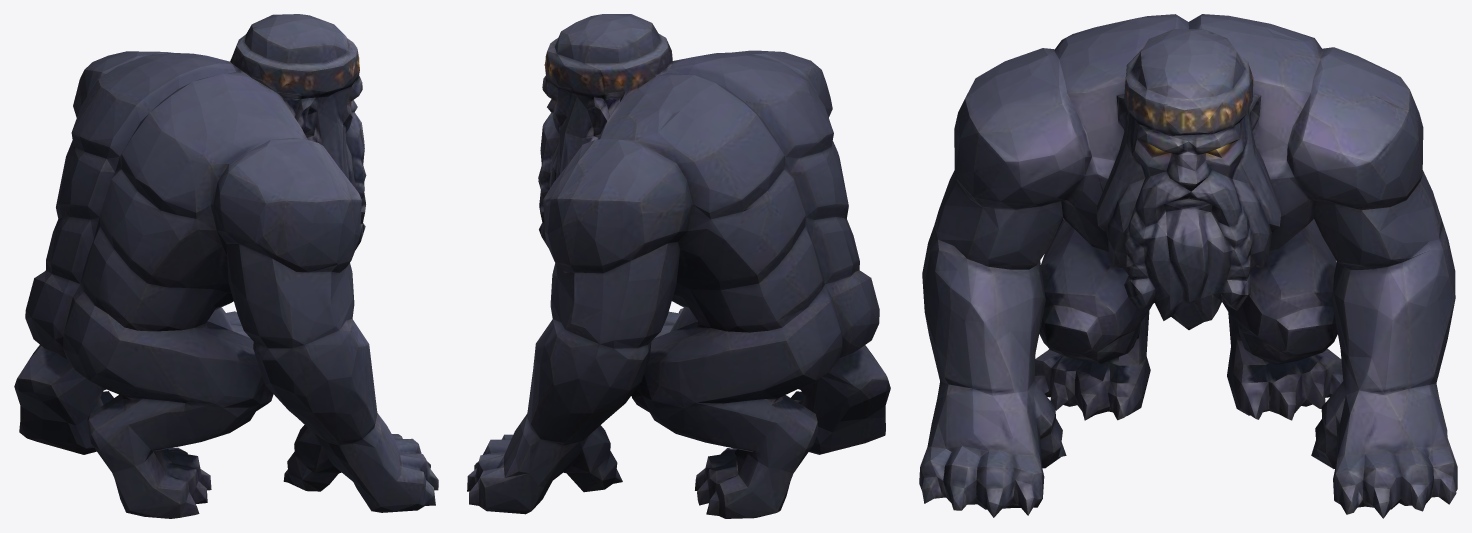
File: foe_twins.glb
3 renders of one model, left to right at view 1: azimuth 30°, elevation 25°; view 2: azimuth 150°, elevation 25°; view 3: azimuth 270°, elevation 25°, orthographic. The views are drawn at different scales.
Parts seen in each view (by area): view 1: tripo_node_696e6674-c88c-43c2-b154-9938ea69e43f.001; view 2: tripo_node_696e6674-c88c-43c2-b154-9938ea69e43f.001; view 3: tripo_node_696e6674-c88c-43c2-b154-9938ea69e43f.001.
Part boxes in pixels (x1,y1,x2,y2): tripo_node_696e6674-c88c-43c2-b154-9938ea69e43f.001: (14,14,438,518); tripo_node_696e6674-c88c-43c2-b154-9938ea69e43f.001: (467,14,890,518); tripo_node_696e6674-c88c-43c2-b154-9938ea69e43f.001: (919,14,1457,518).
Size of the model in its own units: 0.7188 by 0.926 by 0.9984.
Materials: 1 (1 with a texture image).
